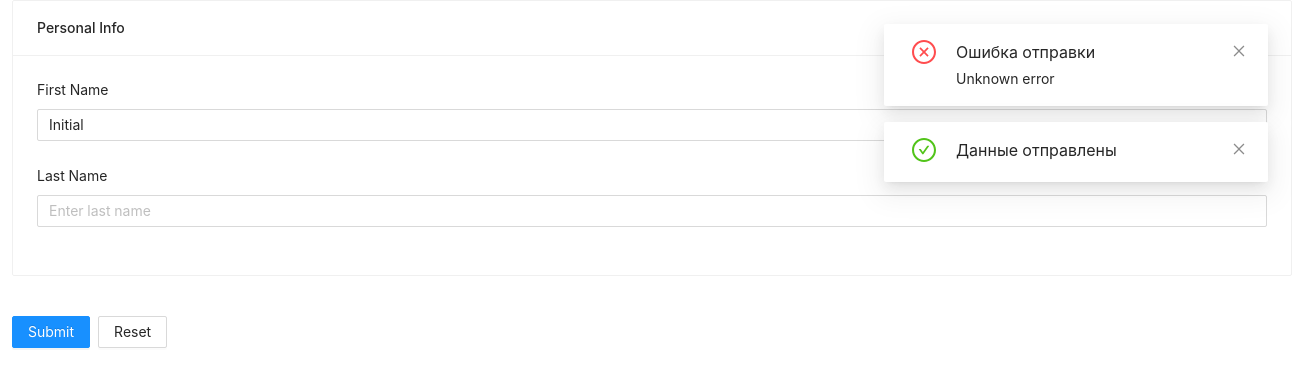
FormGenerator › сброс › должен сбрасывать к начальным значениям при нажатии кнопки reset
Replace the text in the field with placeholder "Enter first name" with "Changed". click: (652, 125)
box: [37, 109, 1267, 141]
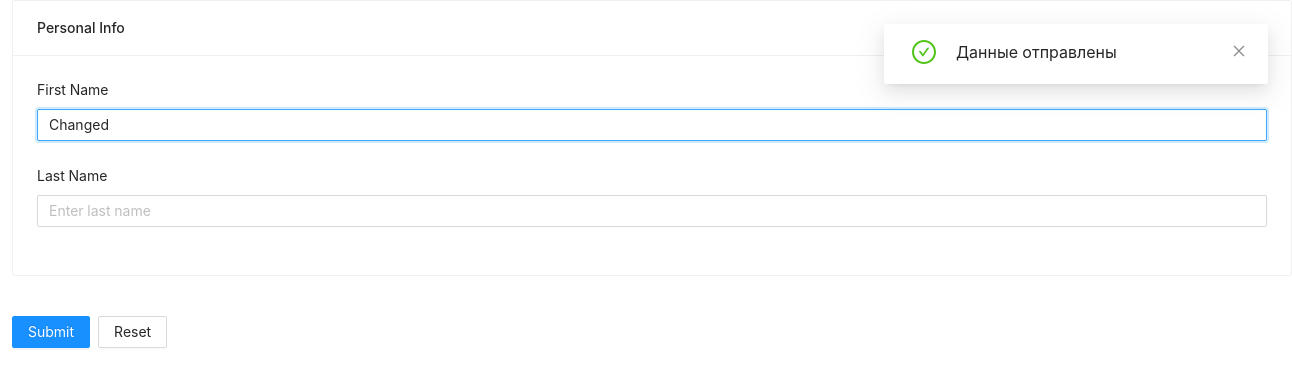
Click the button "Reset". click: (133, 332)
box: [98, 316, 167, 348]
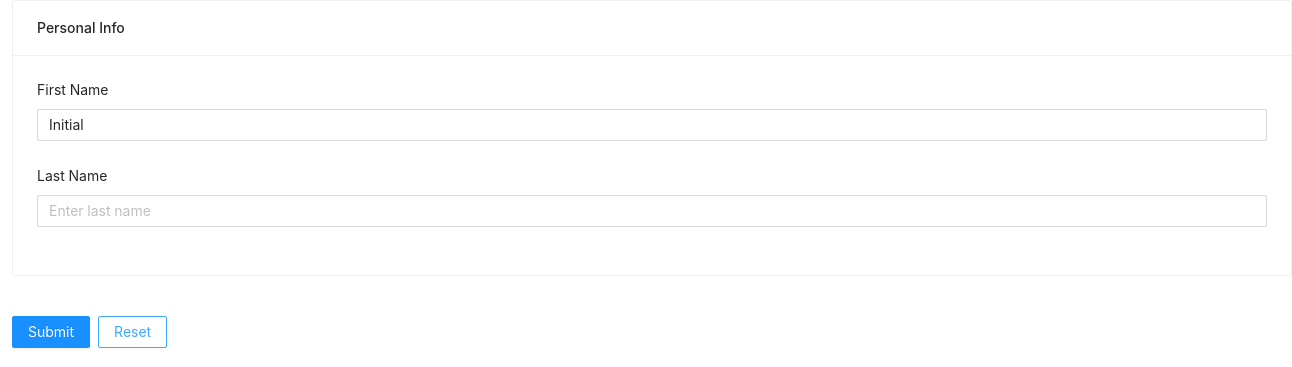
Expected: the field with placeholder "Enter first name" holds "Initial", [37, 109, 1267, 141]
